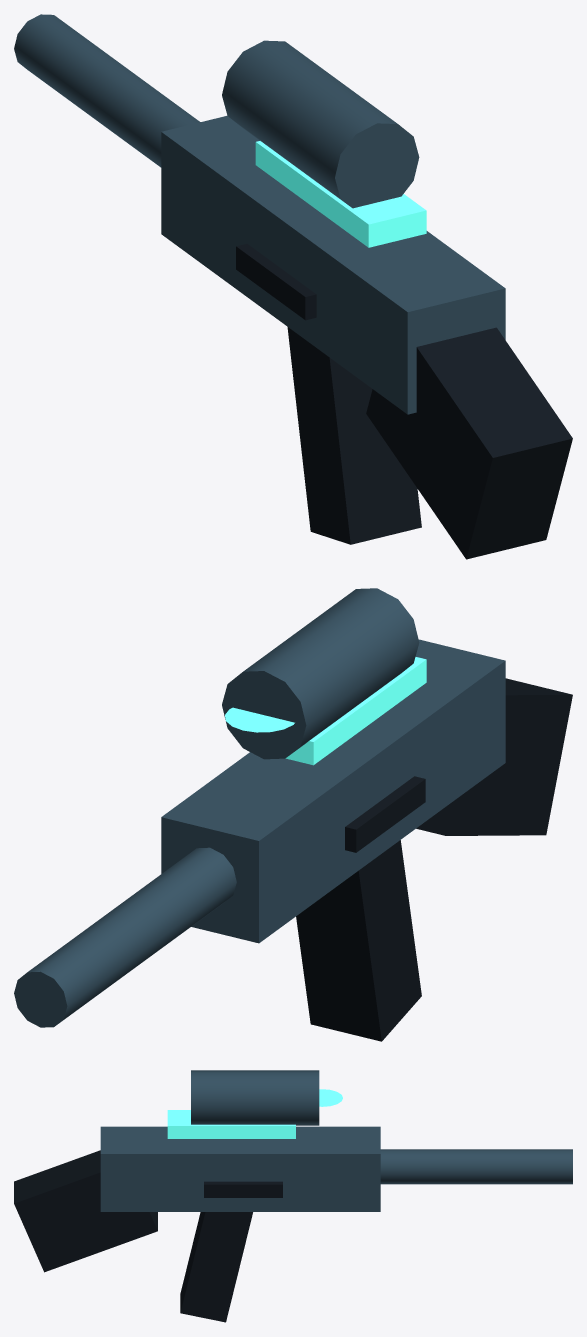
The picture shows the model from 3 angles, top to bottom: view 1: azimuth 30°, elevation 25°; view 2: azimuth 150°, elevation 25°; view 3: azimuth 270°, elevation 25°; orthographic projection. The views are drawn at different scales.
Parts seen in each view (by area): view 1: ar9; view 2: ar9; view 3: ar9.
Part boxes in pixels (x1,y1,x2,y2): ar9: (14,14,572,559); ar9: (14,588,572,1041); ar9: (14,1070,572,1322).
Size of the model in its own units: 0.27 by 0.9072 by 1.92.
